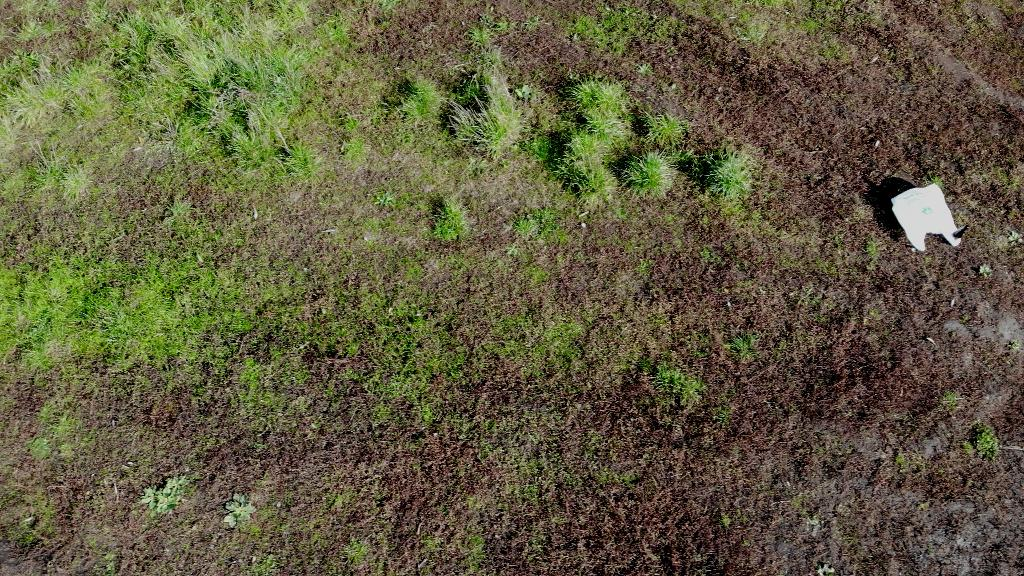garbage: (884, 178, 962, 257), (889, 184, 961, 251)
